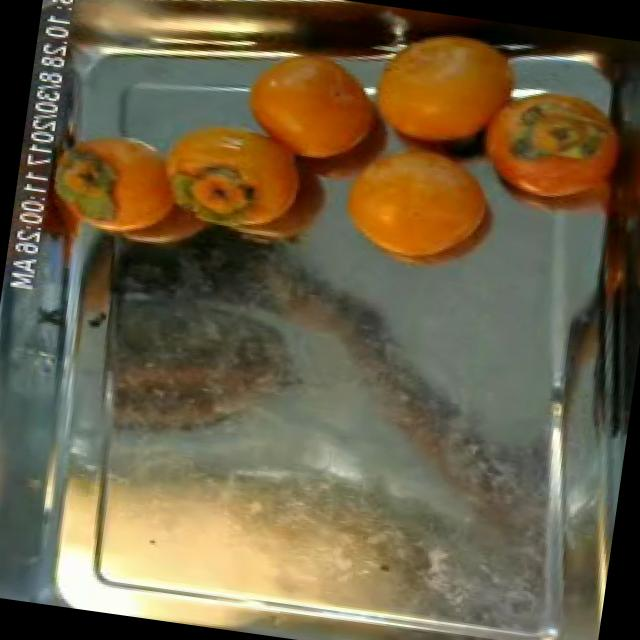Fruit: (72, 266, 300, 476), (310, 114, 524, 294), (448, 64, 640, 250), (344, 17, 547, 176), (219, 38, 411, 189)
